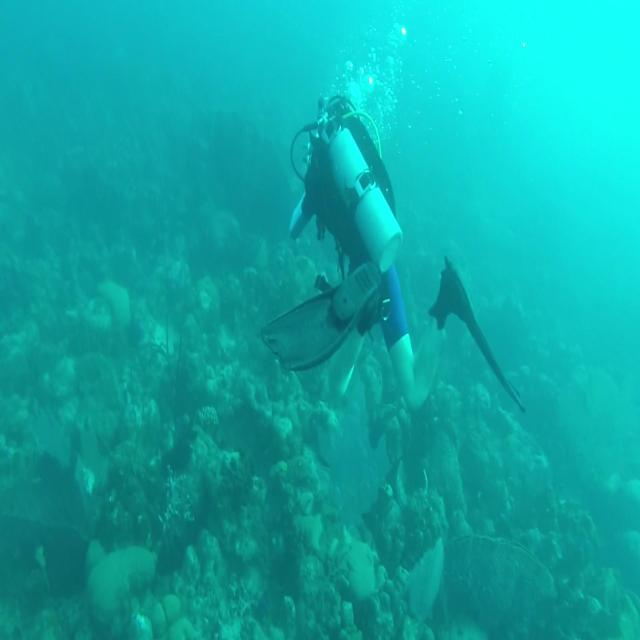human: (277, 90, 526, 417)
